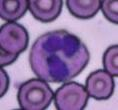N: (30, 31, 88, 82)
